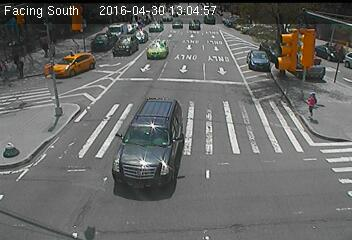neg: (236, 154, 268, 196), (70, 133, 101, 174), (288, 161, 317, 201), (284, 29, 313, 68), (5, 134, 31, 170), (235, 63, 260, 97), (118, 159, 143, 193), (46, 73, 71, 107), (89, 54, 113, 86), (193, 29, 217, 61), (145, 105, 168, 137), (22, 38, 45, 68), (159, 43, 181, 73), (176, 149, 197, 176), (174, 194, 193, 219), (203, 80, 221, 105), (76, 203, 93, 225), (27, 200, 42, 221)
pos: (302, 89, 326, 121)
